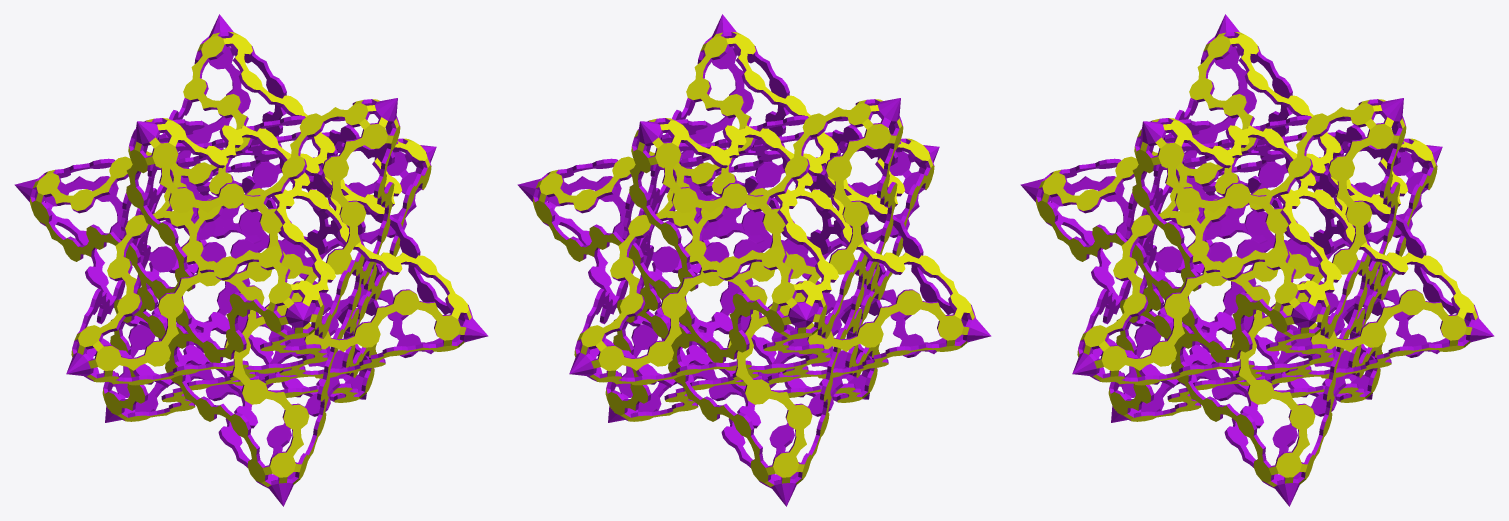
The model's file is StarDodecahedronPolyknot27.glb.
3 views of the same model, side by side, from view 1: azimuth 30°, elevation 25°; view 2: azimuth 150°, elevation 25°; view 3: azimuth 270°, elevation 25° (orthographic).
Visible parts, largest first — view 1: 3D_ESCHER_D_POLYKNOT_39Augmented_Penta_Prism; view 2: 3D_ESCHER_D_POLYKNOT_39Augmented_Penta_Prism; view 3: 3D_ESCHER_D_POLYKNOT_39Augmented_Penta_Prism.
Part boxes in pixels (x1,y1,x2,y2): 3D_ESCHER_D_POLYKNOT_39Augmented_Penta_Prism: (14, 14, 488, 506); 3D_ESCHER_D_POLYKNOT_39Augmented_Penta_Prism: (517, 14, 991, 506); 3D_ESCHER_D_POLYKNOT_39Augmented_Penta_Prism: (1020, 14, 1494, 506).
Size of the model in its own units: 96.08 by 79.47 by 93.42.
